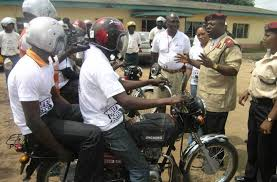helmet: (89, 16, 128, 59), (24, 16, 66, 55)
